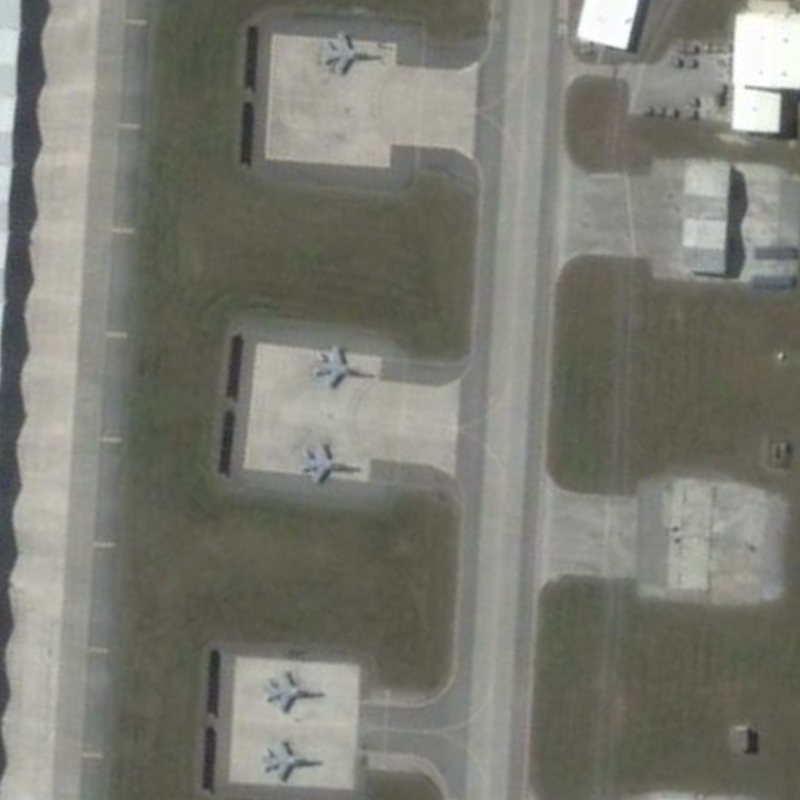A16: (258, 734, 328, 787), (314, 29, 382, 82), (305, 338, 373, 391), (262, 666, 327, 720), (292, 439, 365, 486)
